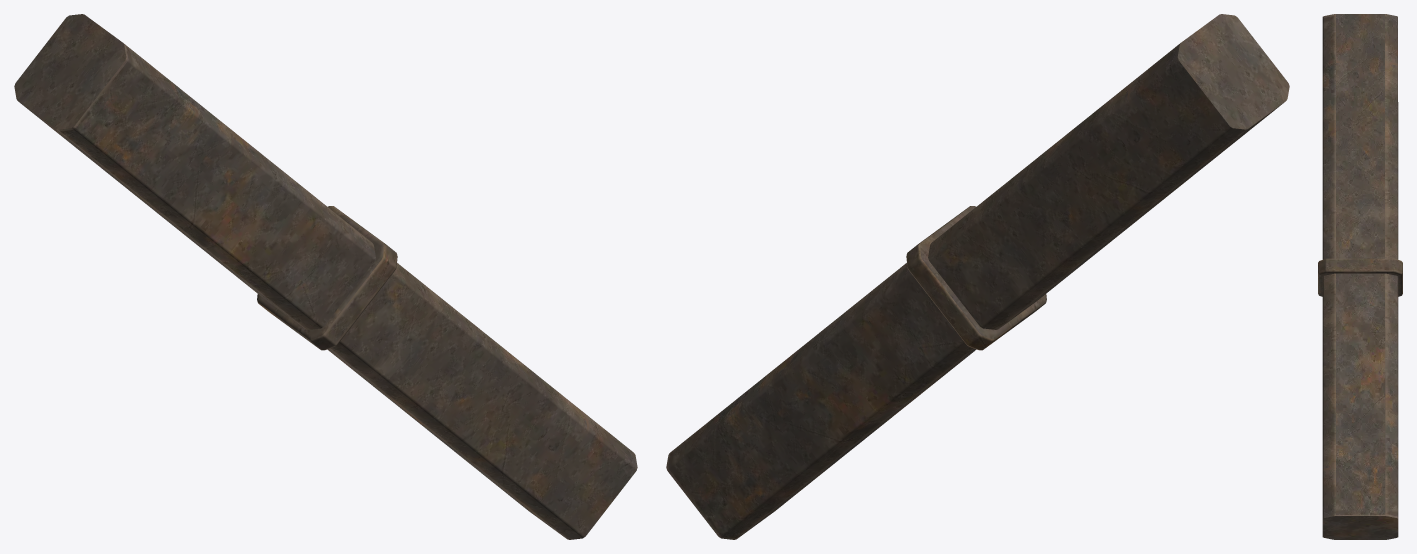
The picture shows the model from 3 angles, left to right: view 1: azimuth 30°, elevation 25°; view 2: azimuth 150°, elevation 25°; view 3: azimuth 270°, elevation 25°; orthographic projection. The views are drawn at different scales.
Parts seen in each view (by area): view 1: SM_BB_T3_Extended_Beam_Thin_Med_Diagonal_LOD0; view 2: SM_BB_T3_Extended_Beam_Thin_Med_Diagonal_LOD0; view 3: SM_BB_T3_Extended_Beam_Thin_Med_Diagonal_LOD0.
Boxes of the visible parts, x1,y1,x2,y2 form: SM_BB_T3_Extended_Beam_Thin_Med_Diagonal_LOD0: [14, 14, 637, 539]; SM_BB_T3_Extended_Beam_Thin_Med_Diagonal_LOD0: [666, 14, 1289, 539]; SM_BB_T3_Extended_Beam_Thin_Med_Diagonal_LOD0: [1318, 14, 1402, 539].
Bounding box in the file's own units: 1.7 × 1.7 × 0.3367.
Materials: 1 (1 with a texture image).
